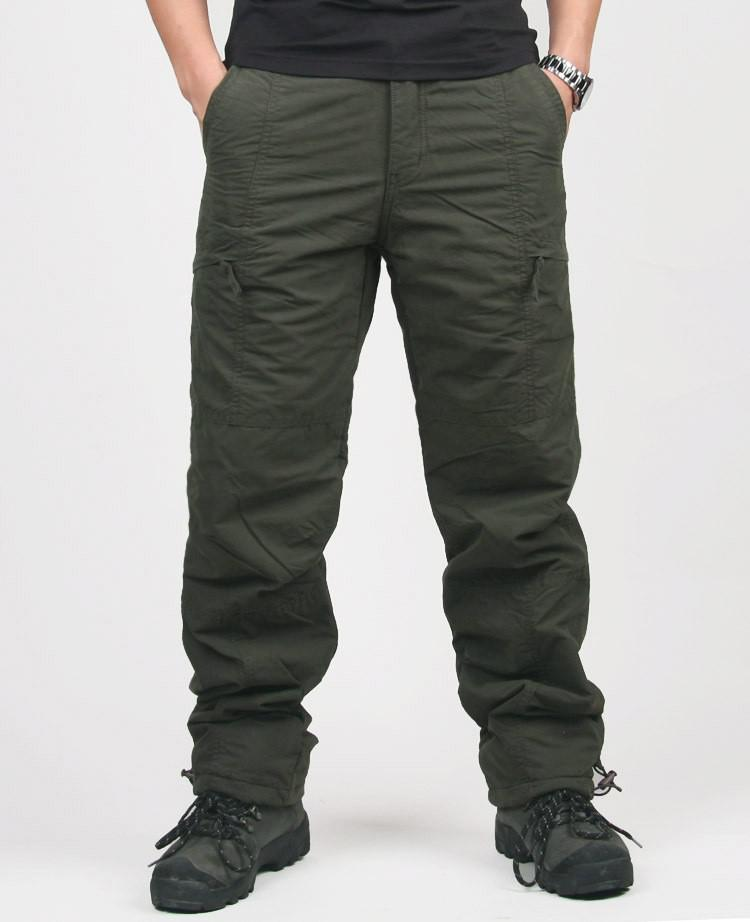pants: (182, 59, 600, 800)
